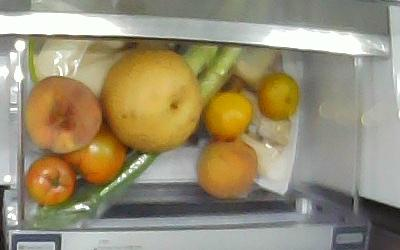peach: (27, 77, 101, 154), (199, 139, 259, 201)
pear: (104, 48, 202, 149)
tangerine: (203, 92, 253, 141), (260, 73, 299, 121)
tomato: (63, 129, 124, 184), (28, 155, 74, 206)
